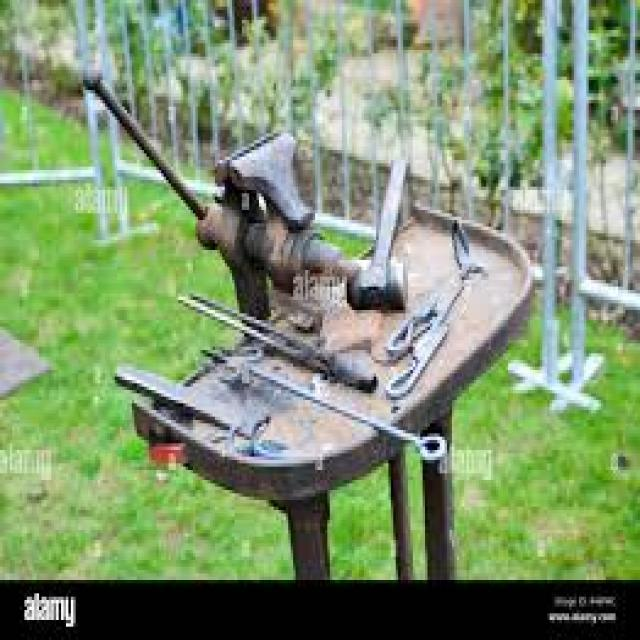hammer: (346, 134, 422, 324)
